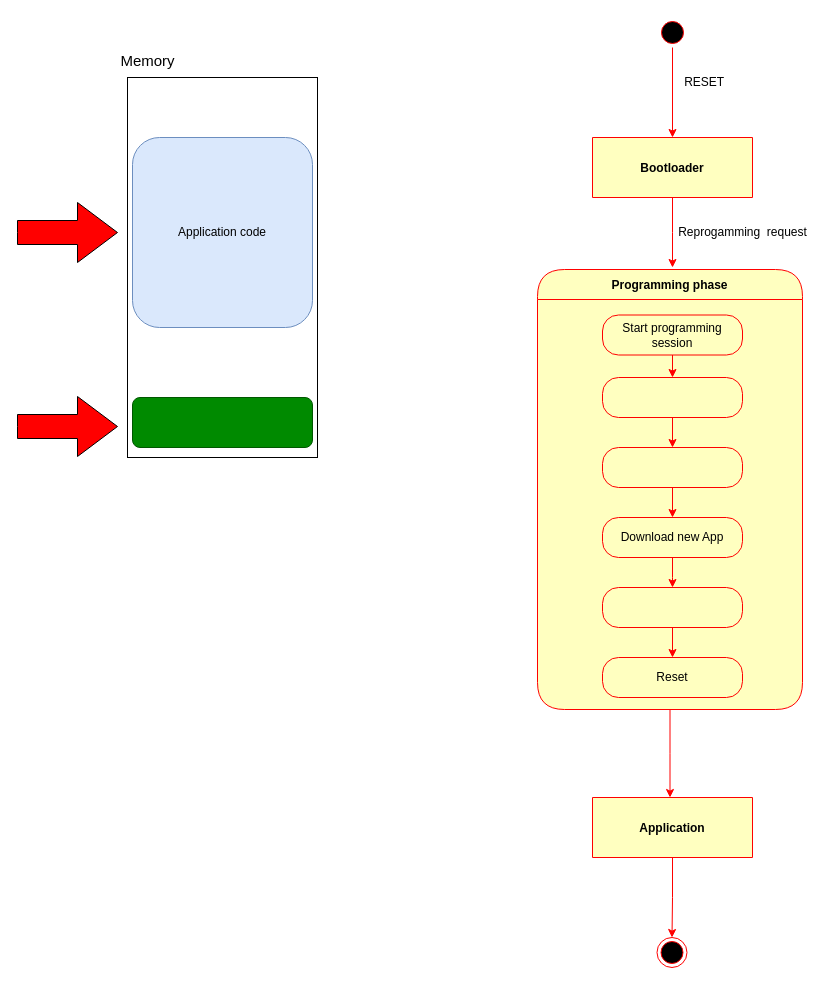
Image size: 835x985. Some labels were removed from this diagram. The shapes that lost their labels are listed below. From the top down, each one's centre as x and y in pixels, then its label:
At point 672,397: "Security Access".
At point 222,422: "Bootloader code".
At point 672,467: "Erase App".
At point 672,607: "Check memory App".
